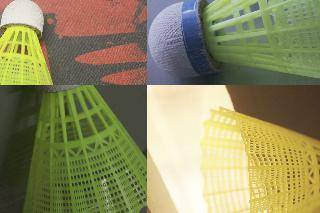shuttlecock: (22, 85, 146, 212), (148, 0, 319, 84), (200, 106, 319, 212), (0, 0, 65, 84)
